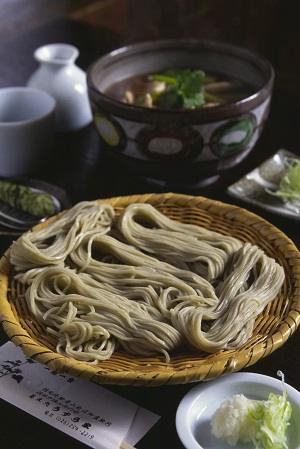Soba: (9, 201, 300, 370)
